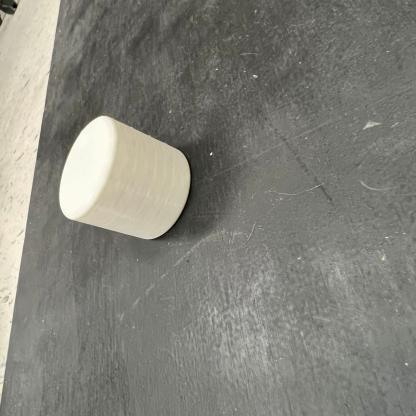white cylinder: (56, 114, 194, 242)
